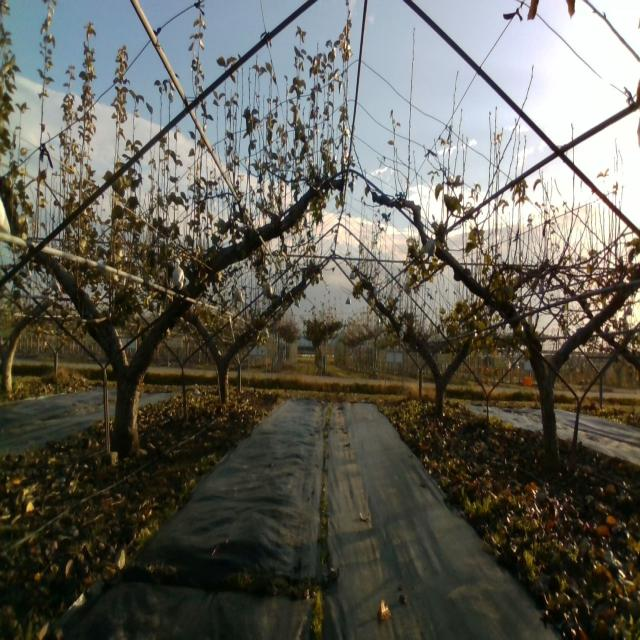pearbags: (172, 266, 185, 291), (421, 238, 436, 256), (233, 288, 246, 306)
